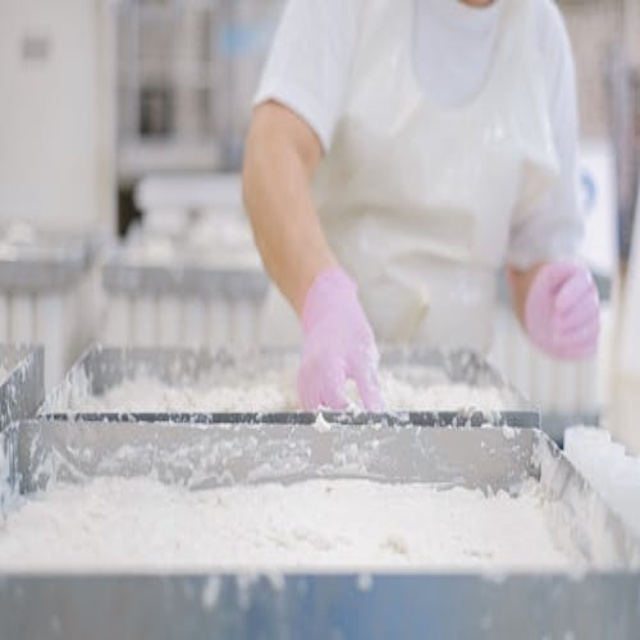Guantes: (297, 267, 387, 414), (525, 261, 602, 360)
